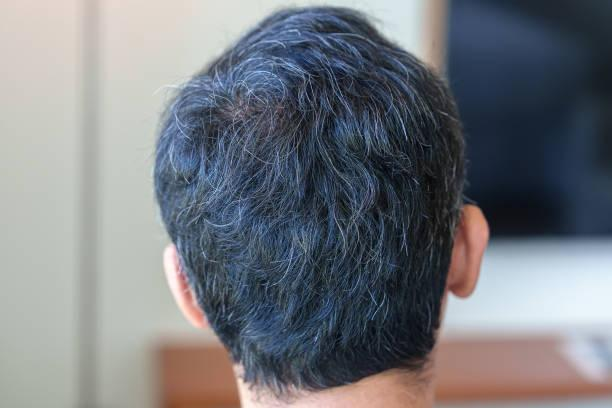grey hair: (239, 64, 297, 93), (362, 282, 392, 324), (332, 212, 349, 267), (199, 214, 240, 236), (392, 101, 411, 145), (255, 35, 300, 52), (396, 216, 415, 256), (286, 236, 297, 291)
low hair density: (213, 96, 289, 131)
